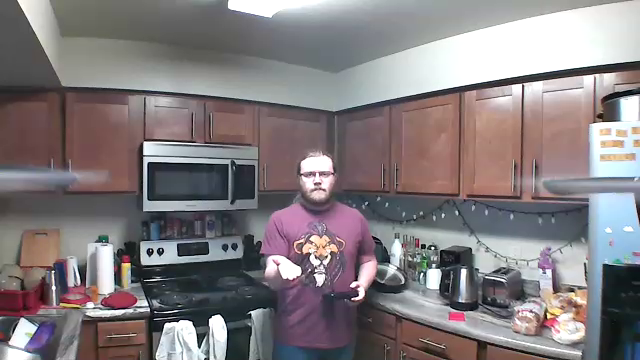land: (272, 255, 303, 282)
